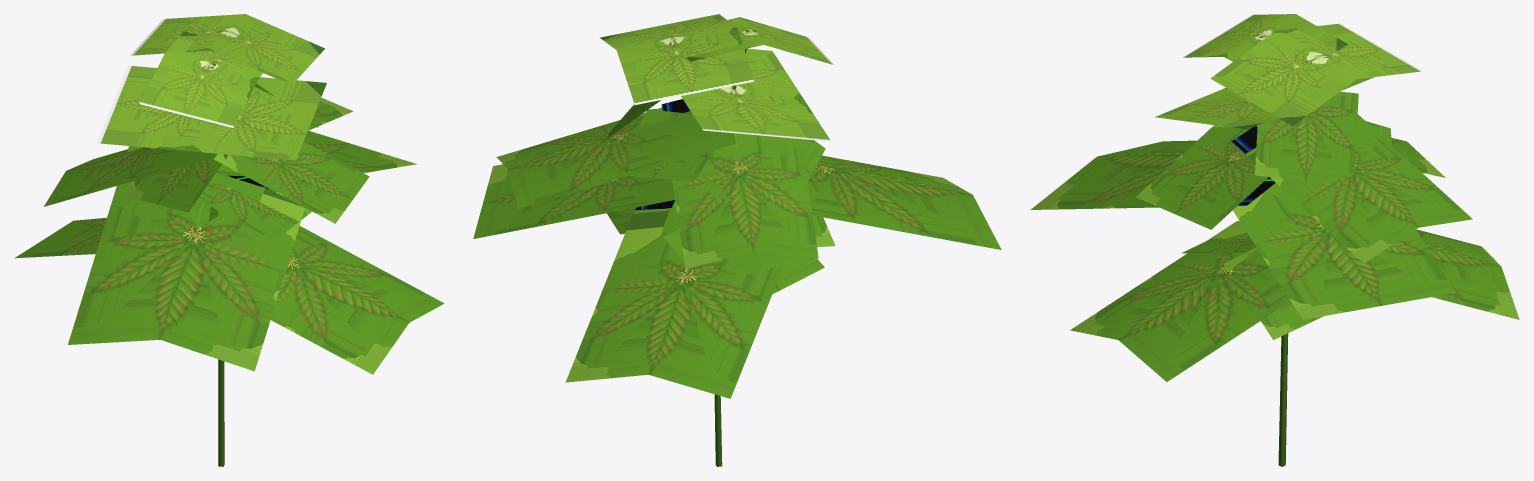
Rendered from CannabisStage03_01.fbx.
3 renders of one model, left to right at view 1: azimuth 30°, elevation 25°; view 2: azimuth 150°, elevation 25°; view 3: azimuth 270°, elevation 25°, orthographic. The views are drawn at different scales.
Visible parts, largest first — view 1: CannabisStage03_01_LOD0; view 2: CannabisStage03_01_LOD0; view 3: CannabisStage03_01_LOD0.
Part boxes in pixels (<box>): CannabisStage03_01_LOD0: <box>14,14,444,466</box>; CannabisStage03_01_LOD0: <box>473,14,1001,466</box>; CannabisStage03_01_LOD0: <box>1030,14,1519,466</box>.
Size of what is drawn, in the model's own units: 94.2 by 90.52 by 93.9.
